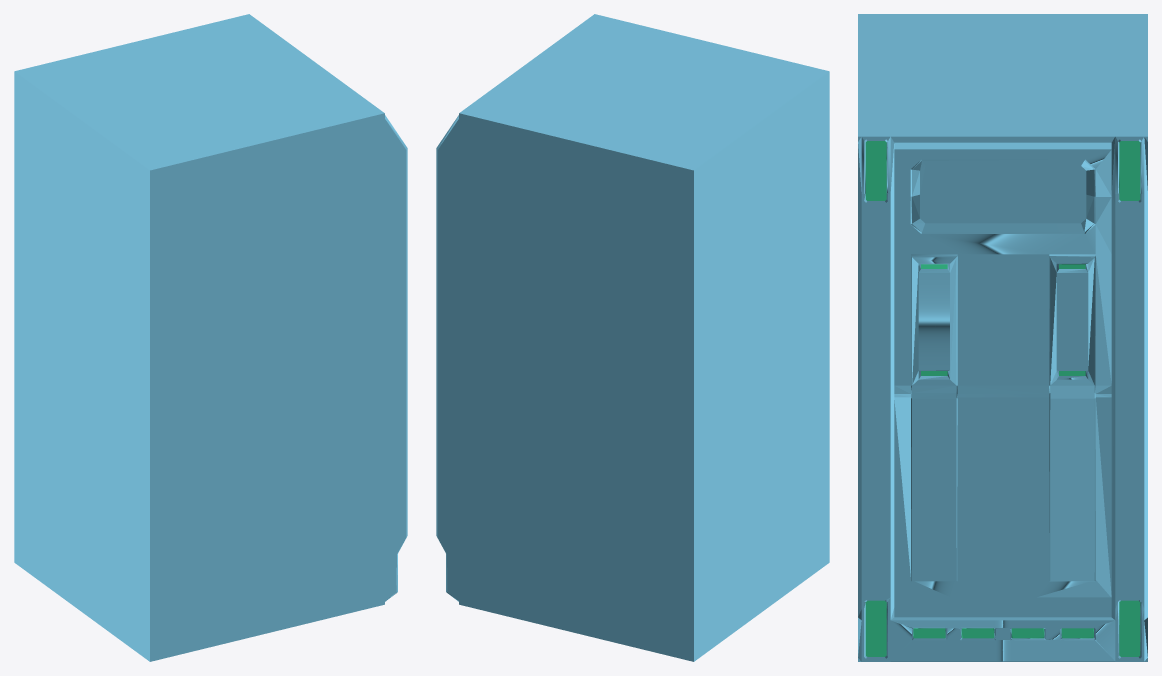
The model's file is uee_stanton_kit_ext_wall_4x4x8_01_reg.glb.
3 renders of one model, left to right at view 1: azimuth 30°, elevation 25°; view 2: azimuth 150°, elevation 25°; view 3: azimuth 270°, elevation 25°, orthographic. The views are drawn at different scales.
Bounding box in the file's own units: 4.41 × 8 × 4.
